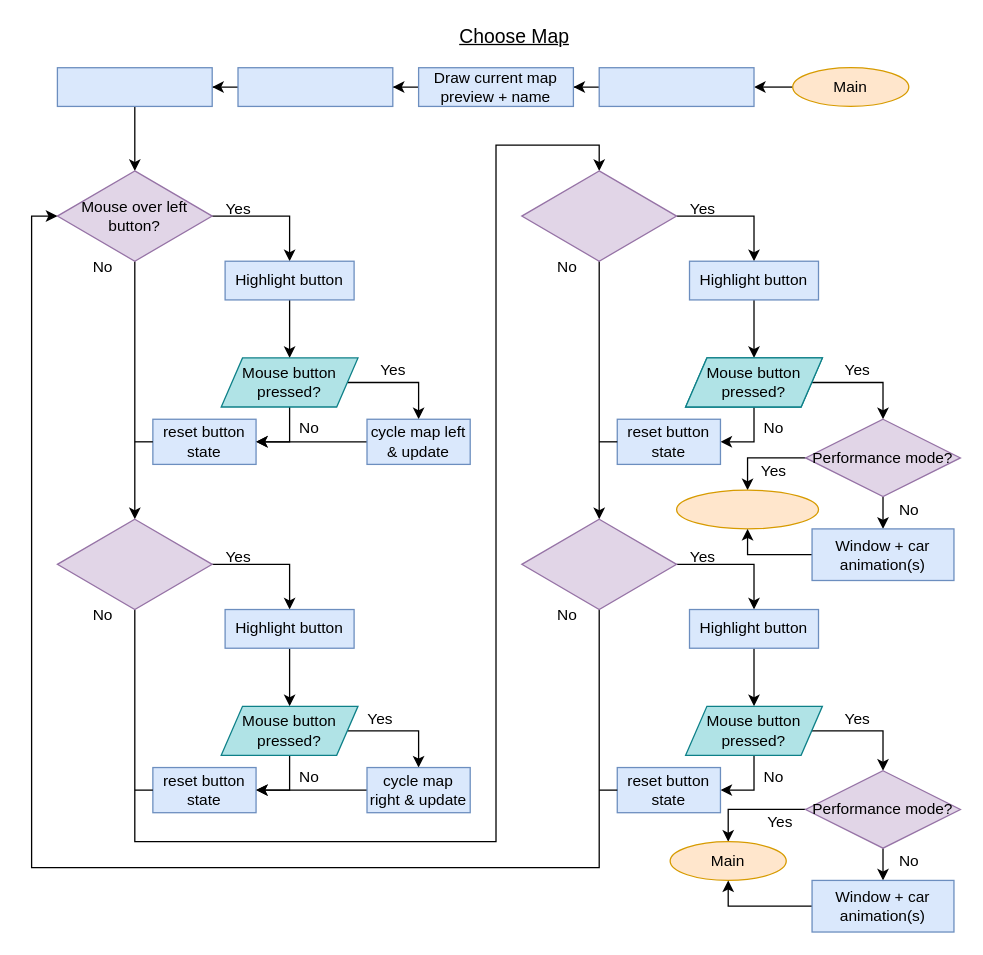
Some shapes in this 983 by 955 pixel diagram are drawn without their labels. Each missing label, with the centre of its shape:
"Choose Players" goes at pixel 747 509.
"Draw background" goes at pixel 676 86.
"Draw buttons" goes at pixel 315 86.
"Draw car sprite" goes at pixel 134 86.
"Mouse over back button?" goes at pixel 599 564.
"Mouse over confirm button?" goes at pixel 599 215.
"Mouse over right button?" goes at pixel 134 564.
